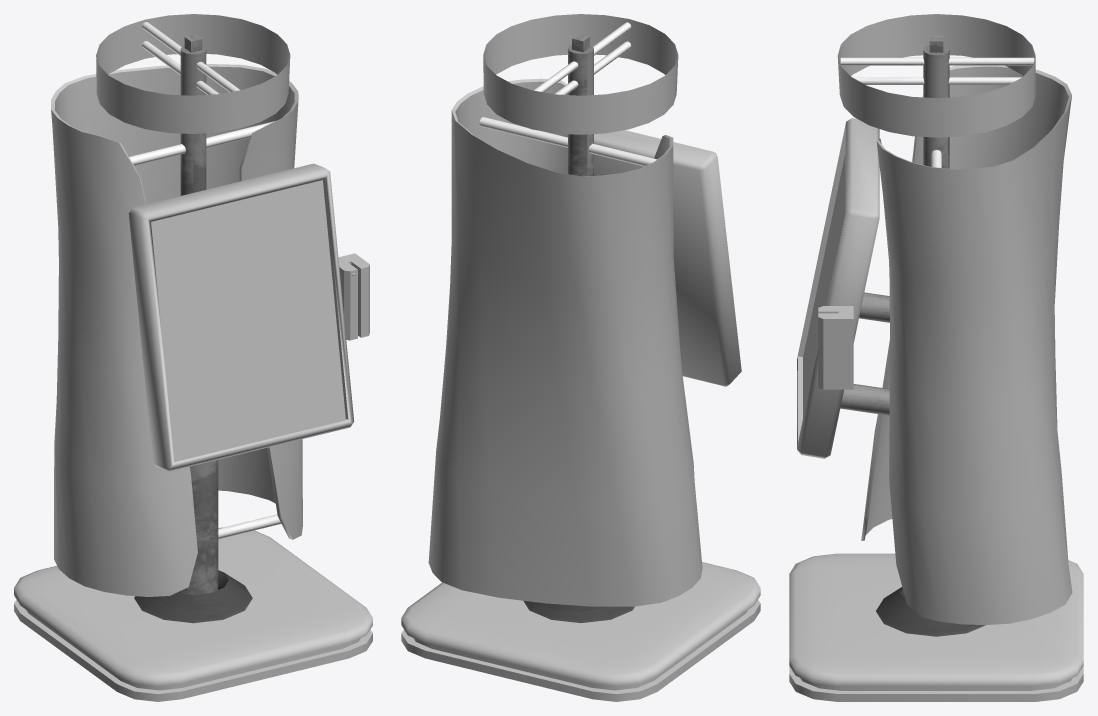
The model's file is Pizza Order Station.fbx.
The picture shows the model from 3 angles, left to right: view 1: azimuth 30°, elevation 25°; view 2: azimuth 150°, elevation 25°; view 3: azimuth 270°, elevation 25°; orthographic projection. The views are drawn at different scales.
Parts seen in each view (by area): view 1: Pizza Order Station; view 2: Pizza Order Station; view 3: Pizza Order Station.
Part boxes in pixels (x1,y1,x2,y2): Pizza Order Station: (14,14,372,701); Pizza Order Station: (401,14,760,701); Pizza Order Station: (789,14,1083,701).
Size of the model in its own units: 60.96 by 137 by 60.96.
